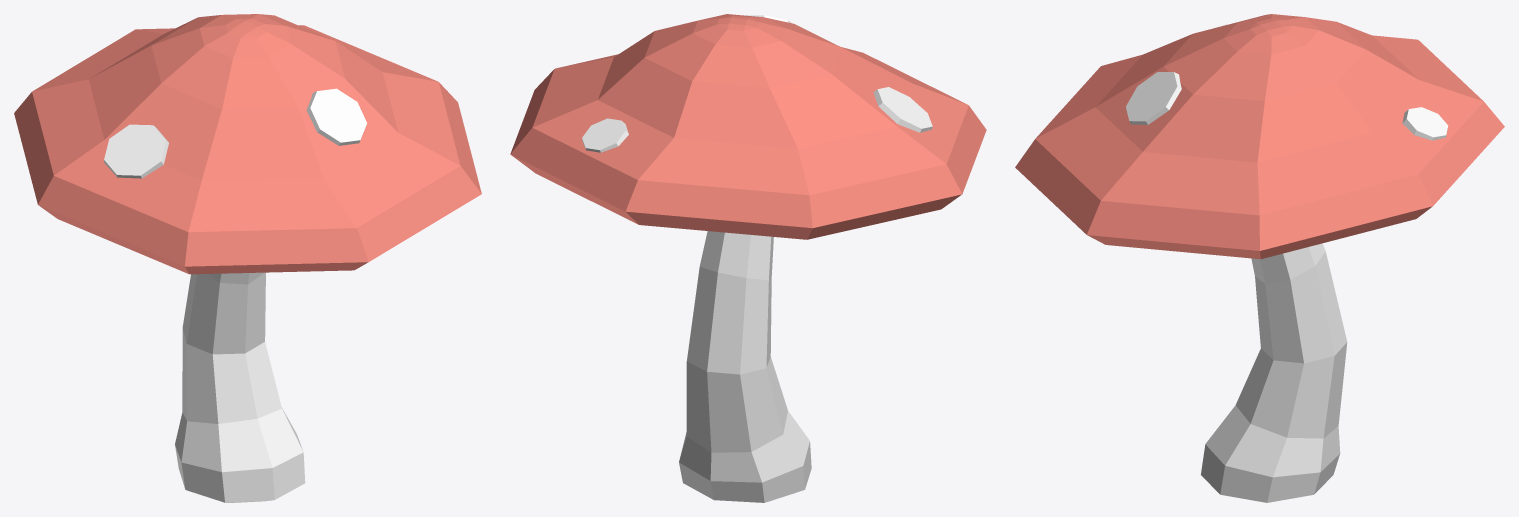
The model's file is Mushroom_01.gltf.
The picture shows the model from 3 angles, left to right: view 1: azimuth 30°, elevation 25°; view 2: azimuth 150°, elevation 25°; view 3: azimuth 270°, elevation 25°; orthographic projection.
Parts seen in each view (by area): view 1: node-0; view 2: node-0; view 3: node-0.
Part boxes in pixels (left/top/right/bottom): node-0: left=14, top=14, right=481, bottom=502; node-0: left=510, top=14, right=986, bottom=502; node-0: left=1015, top=14, right=1504, bottom=502.
Size of the model in its own units: 9.59 by 9.98 by 9.55.
